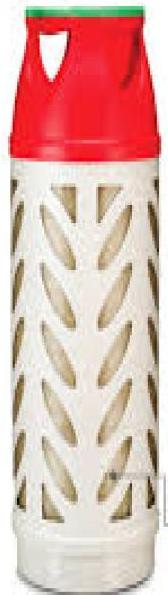cylinder: (1, 1, 168, 595)
